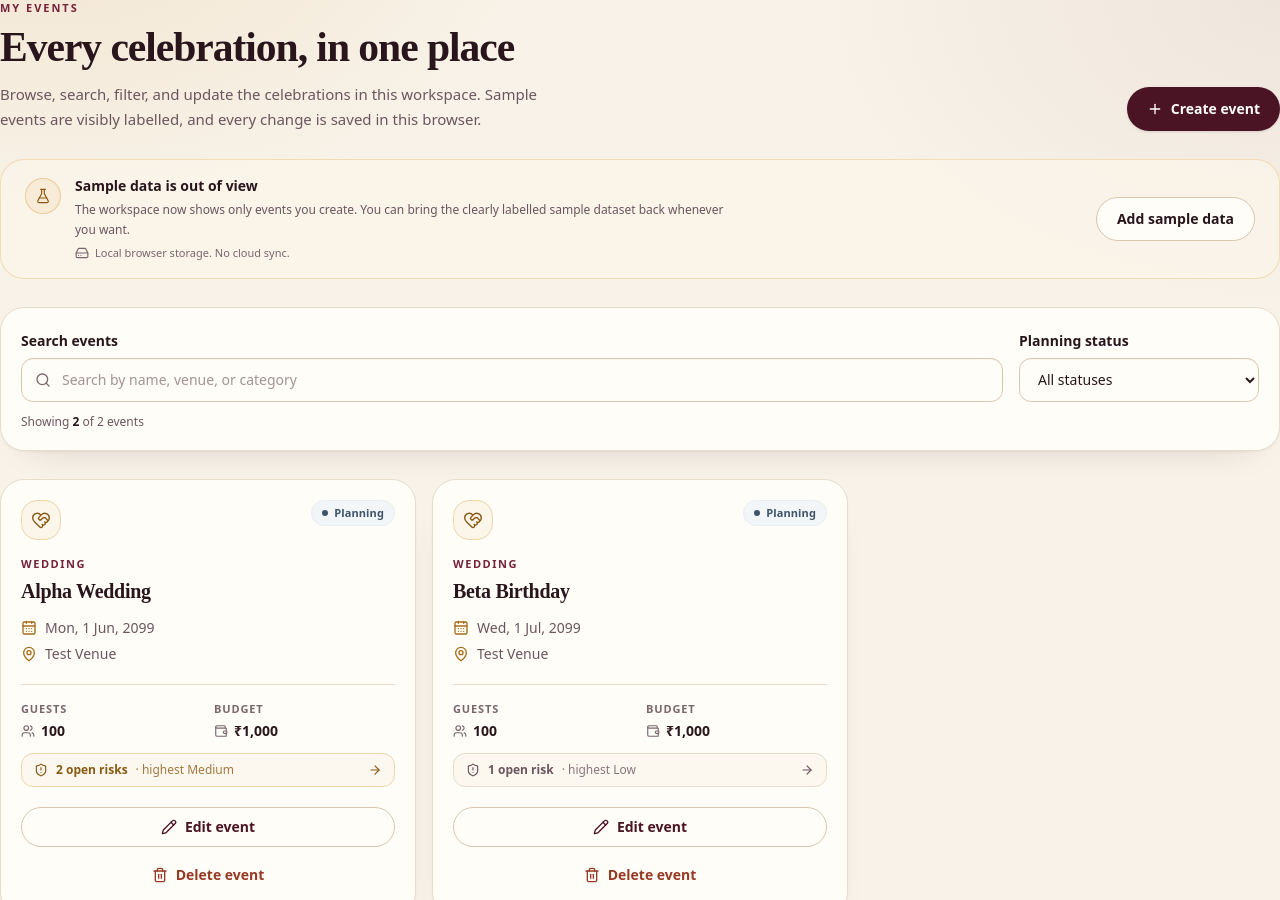
EventsPage › deletes one event only after confirmation and removes only its records
The image size is (1280, 900).
What coordinates should you click on to do the following:
click the button with aria-label "Delete Alpha Wedding"
I would click on:
 (208, 875)
Its box is top-left (21, 855), bottom-right (395, 895).
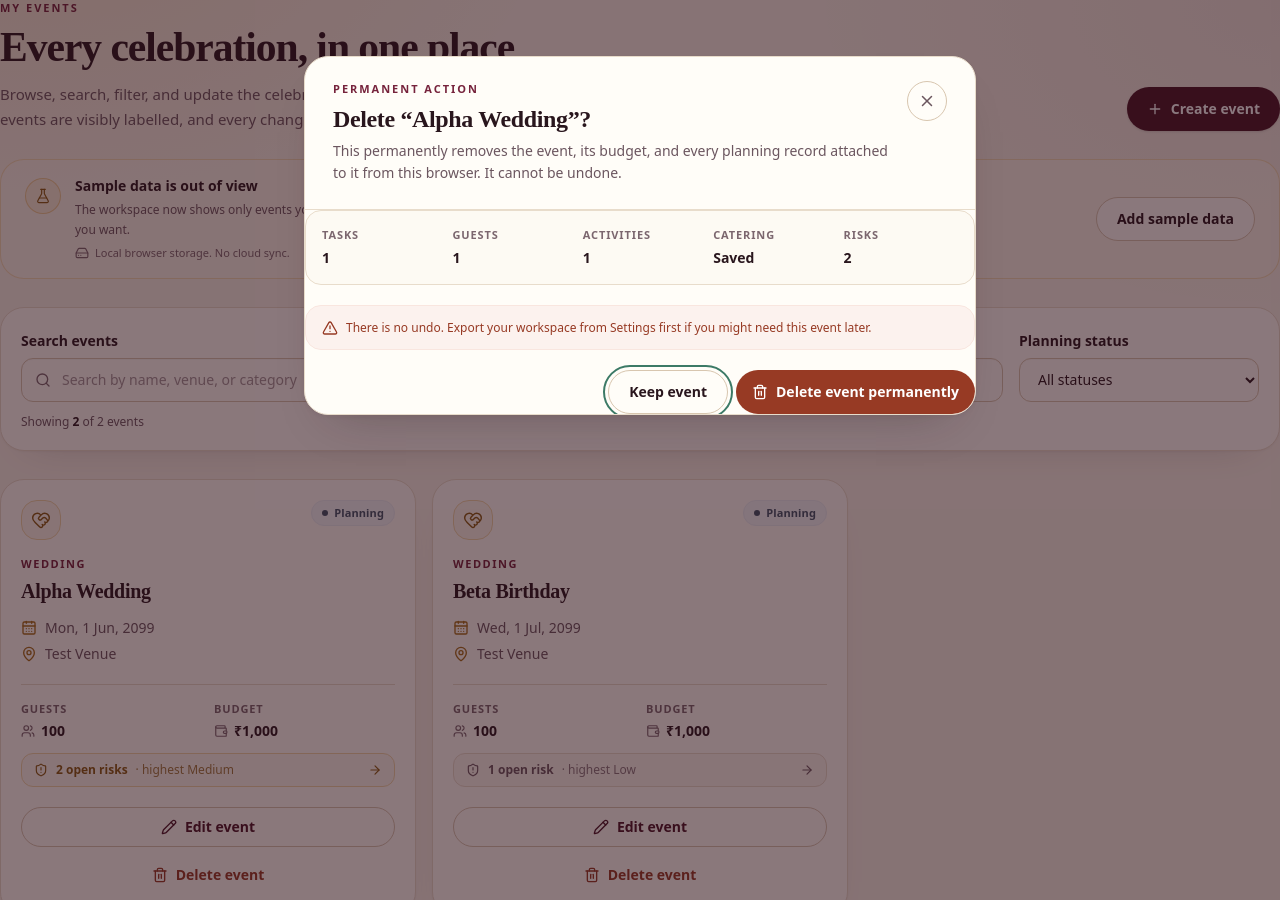
Expected: the dialog shows "Delete “Alpha Wedding”?", top-left (333, 106), bottom-right (591, 132)
What coordinates should you click on to do the following:
click the button "Keep event"
I would click on:
 (668, 392)
Its box is top-left (608, 370), bottom-right (728, 414).
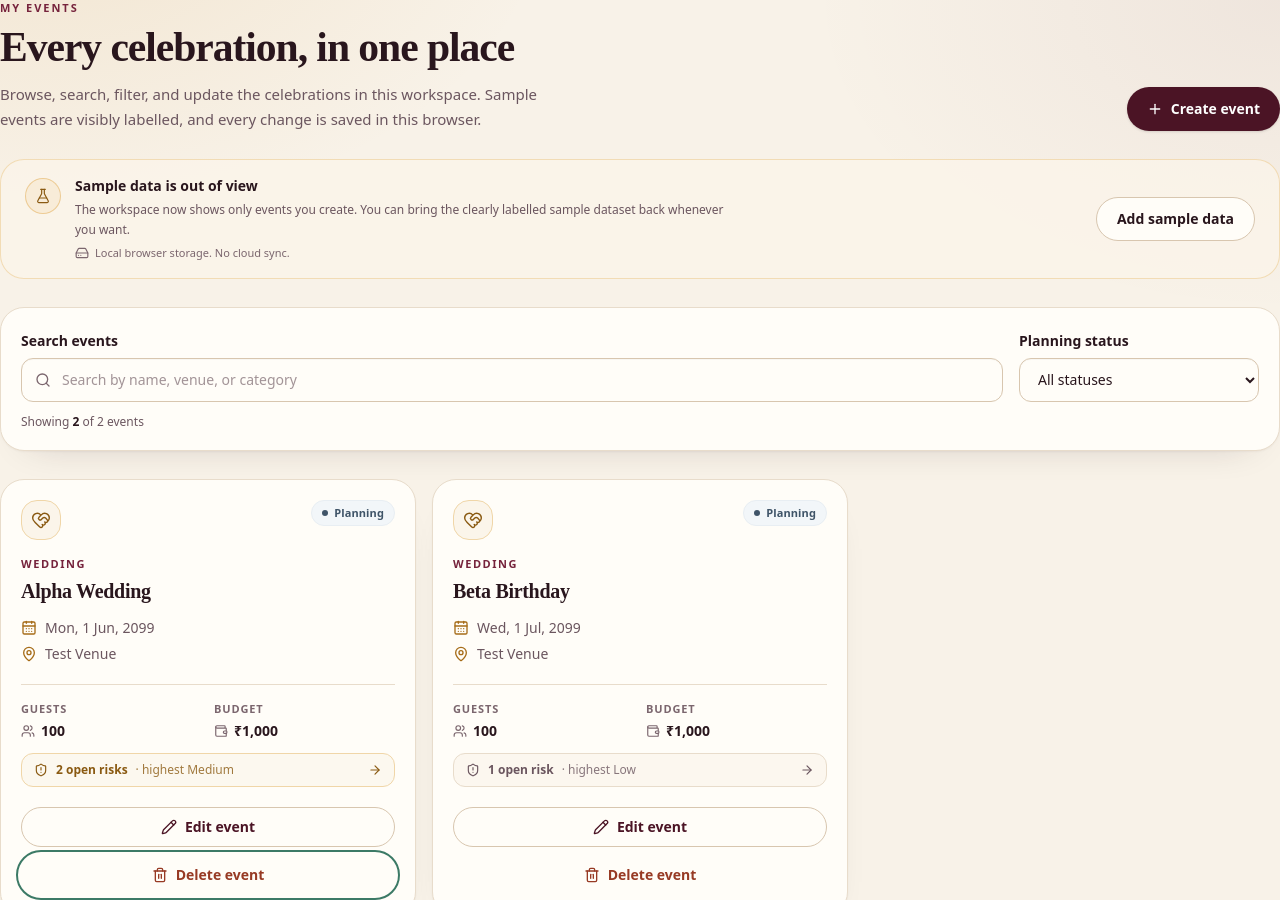
Expected: the heading "Alpha Wedding" is shown, top-left (21, 580), bottom-right (151, 602)
Expected: the dialog is gone
What coordinates should you click on to do the following:
click the button with aria-label "Delete Alpha Wedding"
I would click on:
 (208, 875)
Its box is top-left (21, 855), bottom-right (395, 895).
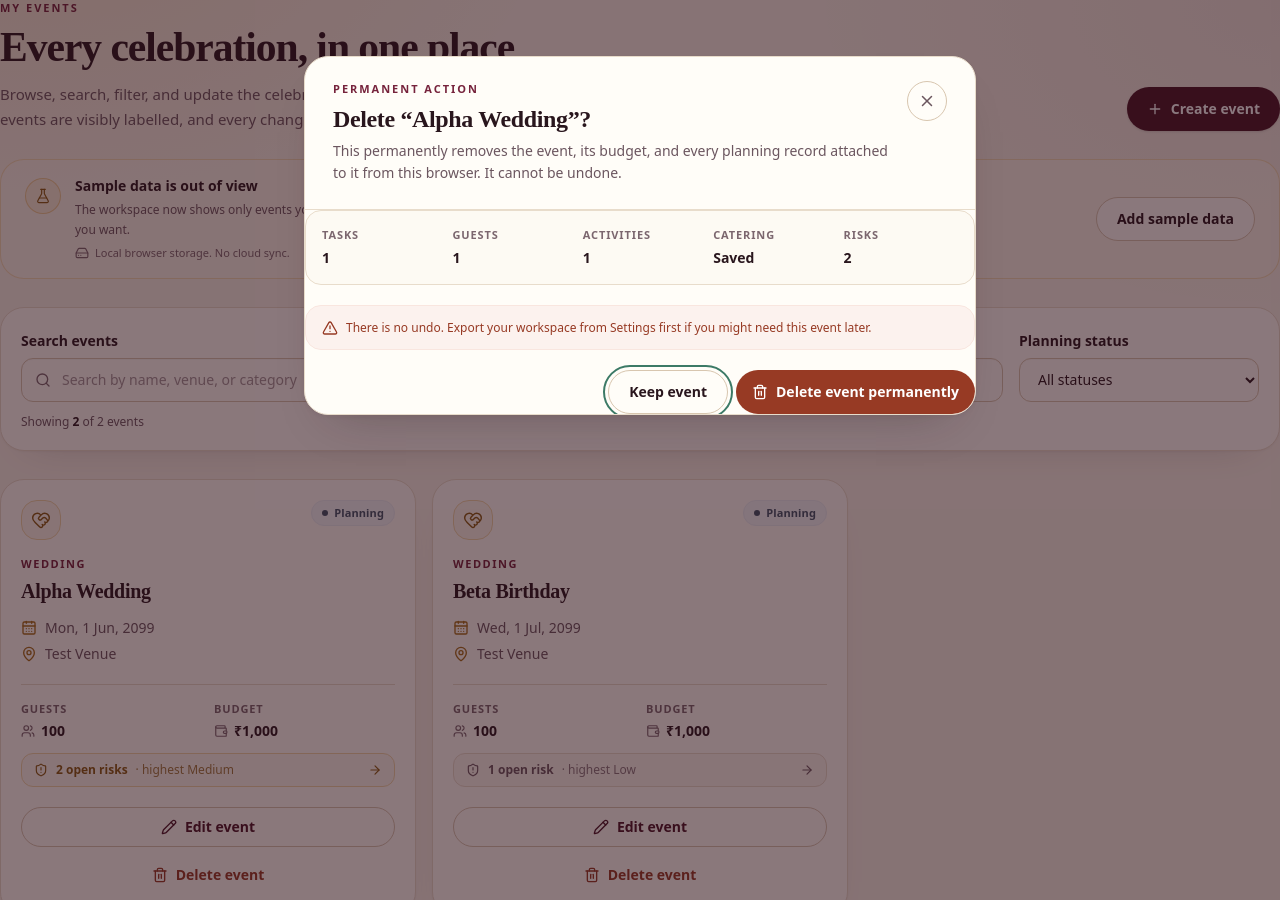
What coordinates should you click on to do the following:
click the button "Delete event permanently"
I would click on:
 (856, 392)
Its box is top-left (736, 370), bottom-right (975, 414).
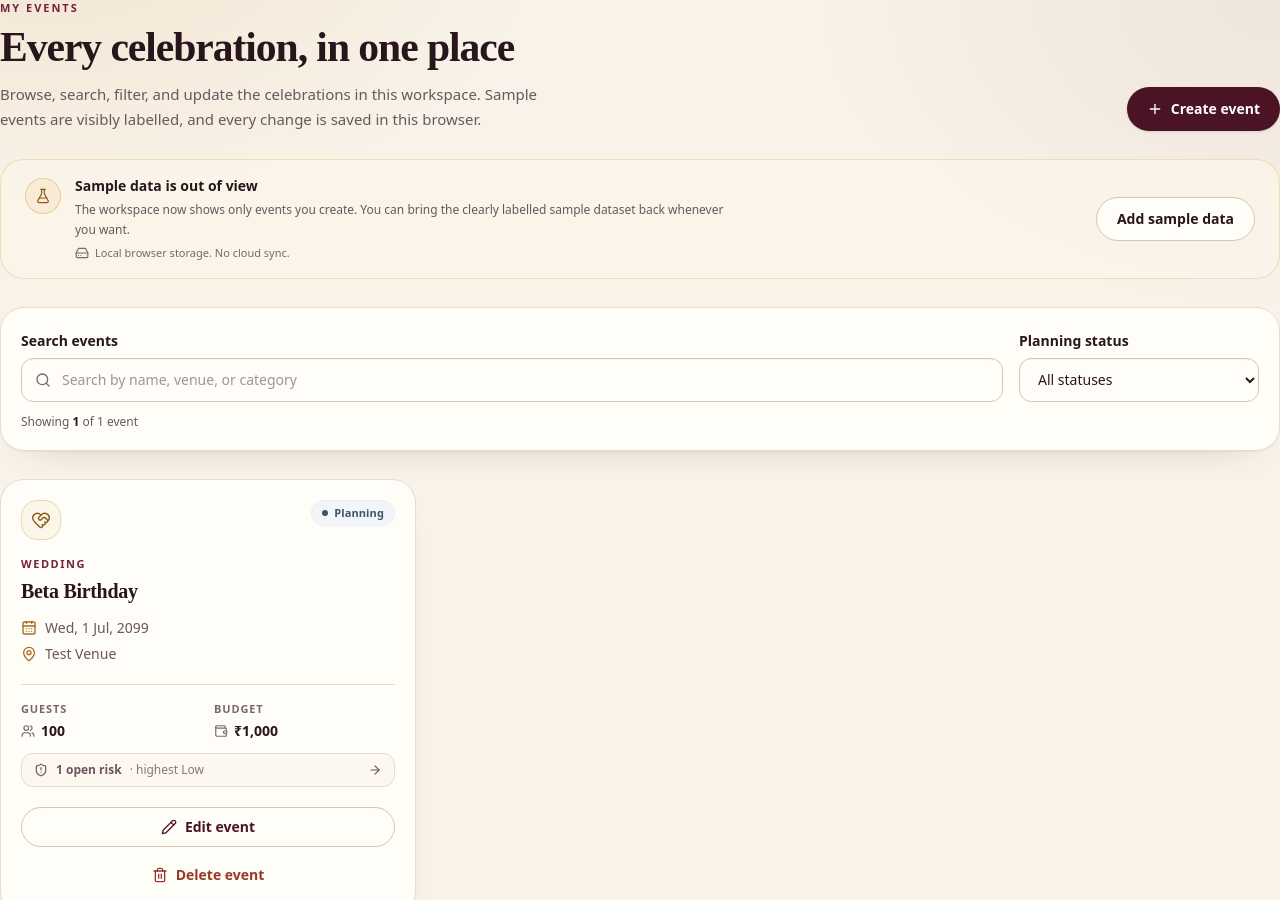
Expected: the heading "Beta Birthday" is shown, top-left (21, 580), bottom-right (138, 602)
Expected: the dialog is gone
